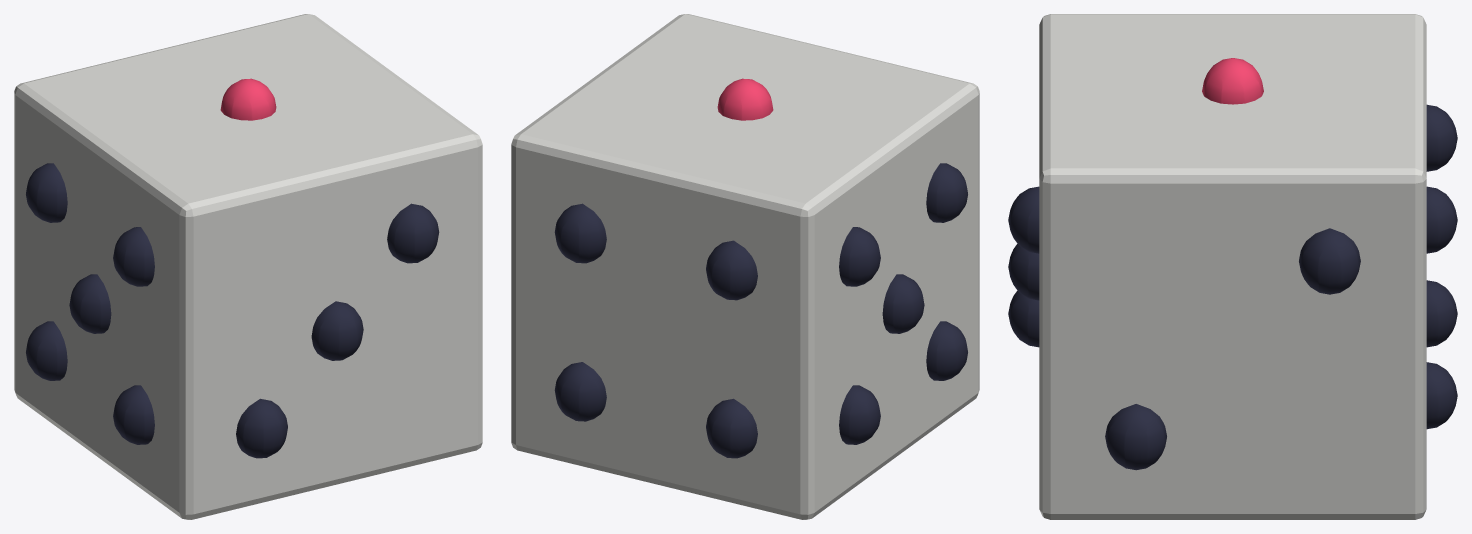
Rendered from dice.glb.
The picture shows the model from 3 angles, left to right: view 1: azimuth 30°, elevation 25°; view 2: azimuth 150°, elevation 25°; view 3: azimuth 270°, elevation 25°; orthographic projection. The views are drawn at different scales.
Visible parts, largest first — view 1: dice; view 2: dice; view 3: dice.
Part boxes in pixels (<box>): dice: <box>14,14,482,519</box>; dice: <box>511,14,979,519</box>; dice: <box>1008,14,1457,519</box>.
Bounding box in the file's own units: 0.0928 × 0.095 × 0.0928.
